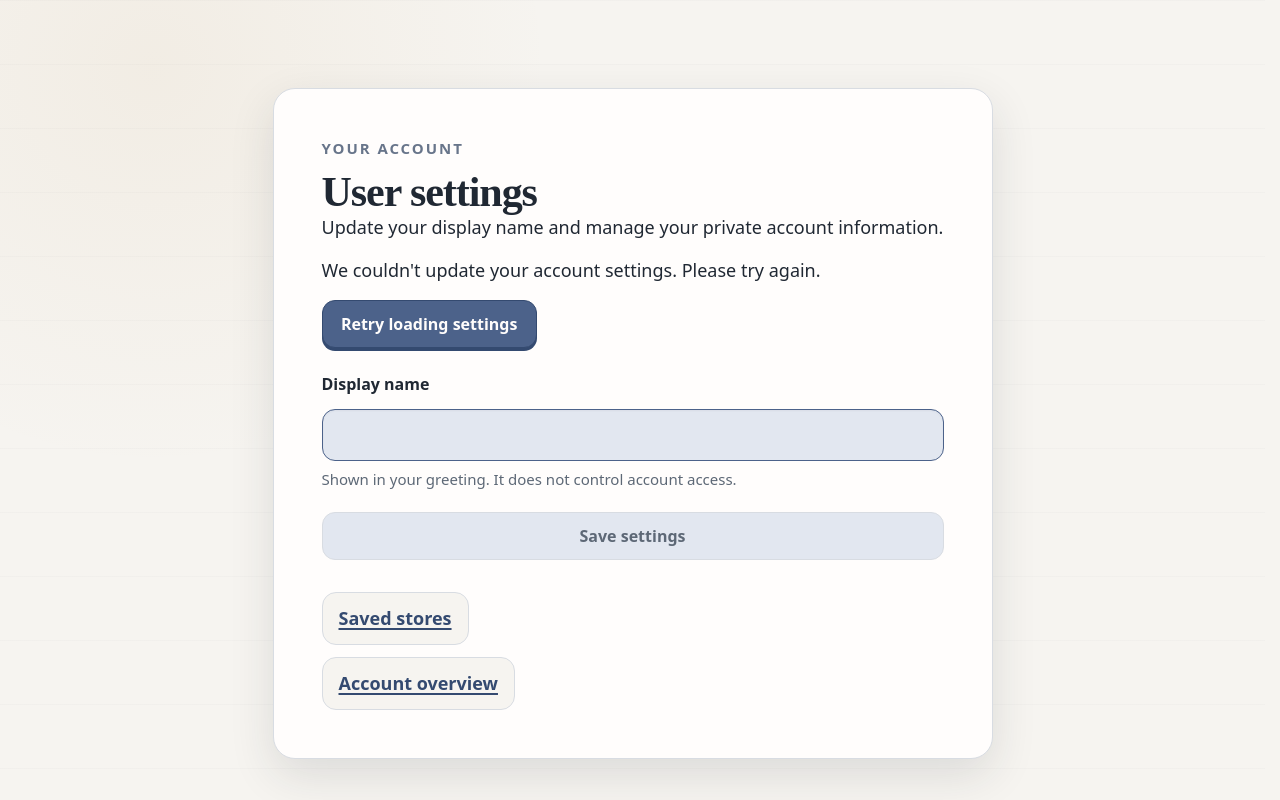
Test: UserSettingsPage › keeps saving disabled after a failed read and retries before editing
The width and height of the screenshot is (1280, 800).
Expected: the message "We couldn't update your account settings. Please try again." is shown, [322, 258, 821, 282]
Expected: the button "Save settings" is disabled, [322, 512, 944, 560]
Submit the form named "Save settings", box [322, 372, 944, 560]
Click the button "Retry loading settings".
click(429, 324)  # box [322, 300, 537, 348]
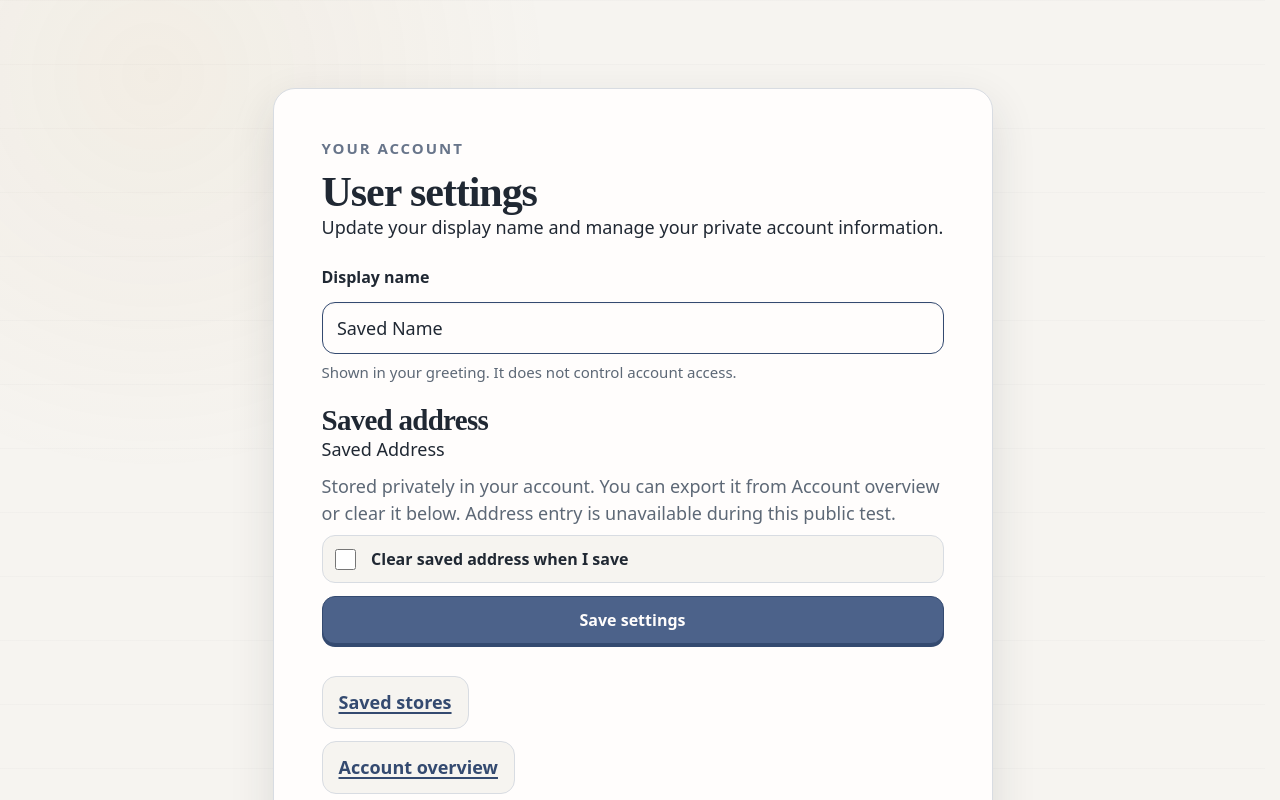
Expected: the text "Saved Address" is shown, [322, 437, 445, 461]
Expected: the field labelled "Display name" holds "Saved Name", [322, 302, 944, 354]
Expected: the button "Save settings" is enabled, [322, 596, 944, 644]
